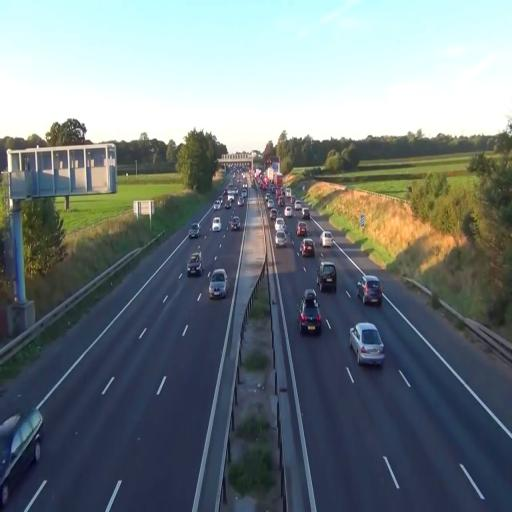vehicle: (0, 409, 43, 508), (350, 322, 386, 366), (298, 290, 322, 336), (361, 276, 383, 307), (317, 261, 337, 295), (208, 268, 227, 298), (187, 250, 203, 278), (274, 221, 288, 248), (301, 238, 315, 257), (230, 215, 242, 231), (190, 222, 200, 238)
